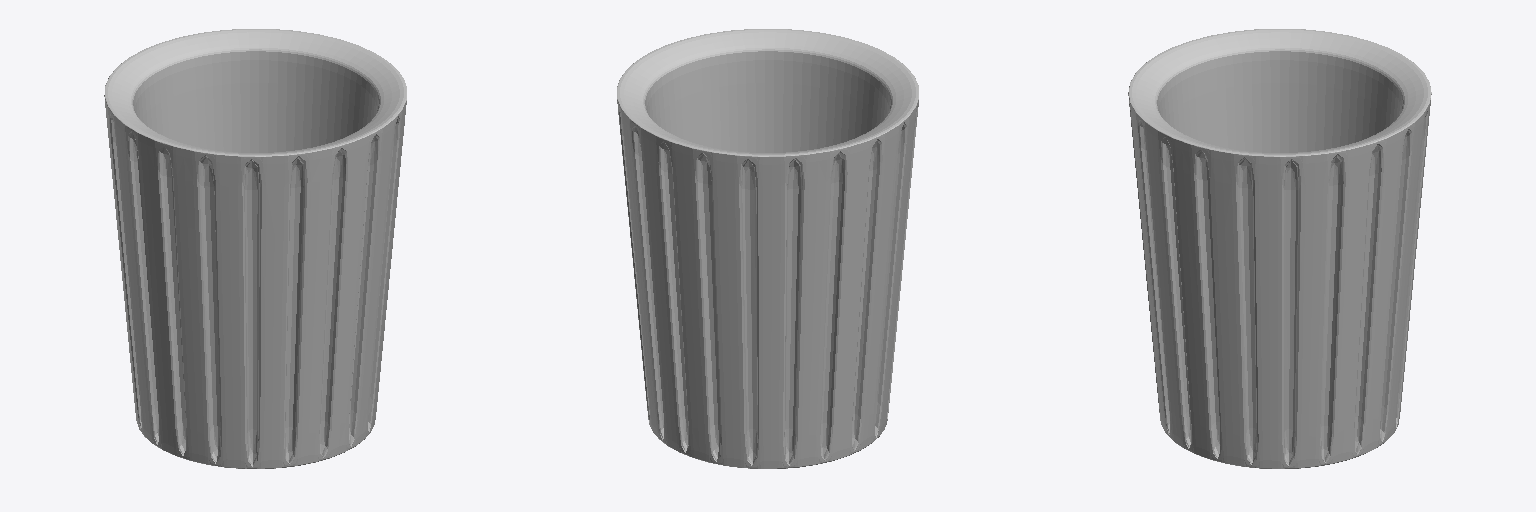
File: trash_bin.obj
3 renders of one model, left to right at view 1: azimuth 30°, elevation 25°; view 2: azimuth 150°, elevation 25°; view 3: azimuth 270°, elevation 25°, orthographic.
Bounding box in the file's own units: 0.1962 × 0.2335 × 0.1962.